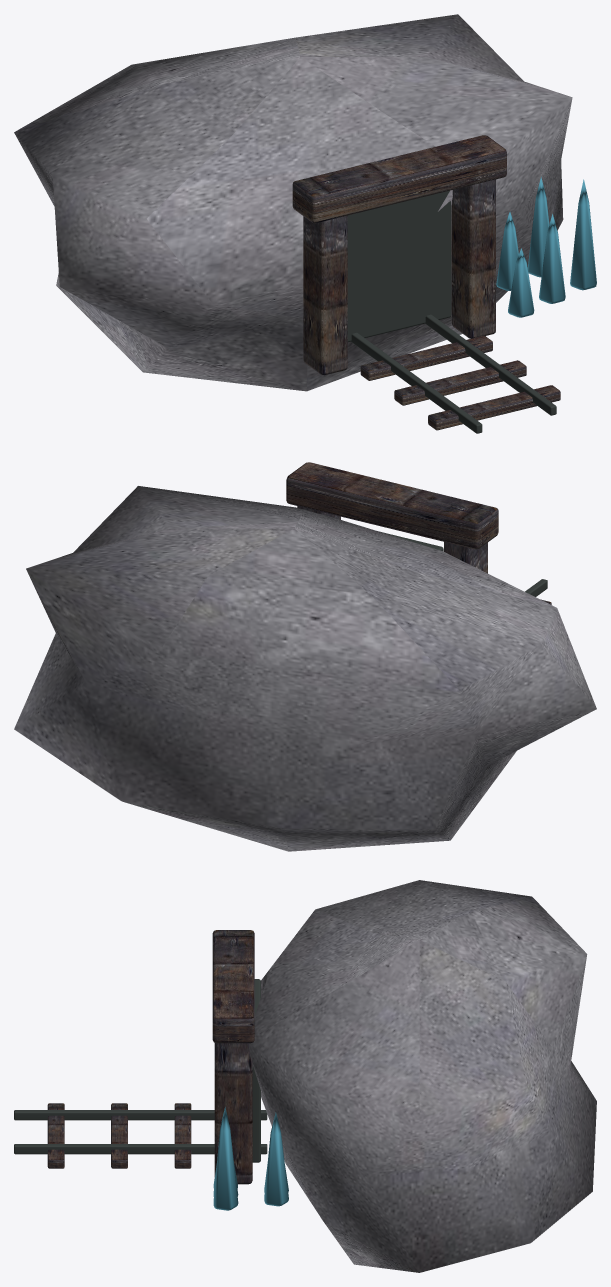
The model's file is env-site-mine.glb.
3 views of the same model, one above another, from view 1: azimuth 30°, elevation 25°; view 2: azimuth 150°, elevation 25°; view 3: azimuth 270°, elevation 25° (orthographic). The views are drawn at different scales.
Visible parts, largest first — view 1: site mine · authored textured miniature; view 2: site mine · authored textured miniature; view 3: site mine · authored textured miniature.
Part boxes in pixels (x1,y1,x2,y2): site mine · authored textured miniature: [14, 14, 596, 433]; site mine · authored textured miniature: [14, 462, 596, 851]; site mine · authored textured miniature: [14, 880, 596, 1272].
Size of the model in its own units: 1.37 by 0.7522 by 1.38.
Materials: 4 (2 with a texture image).
